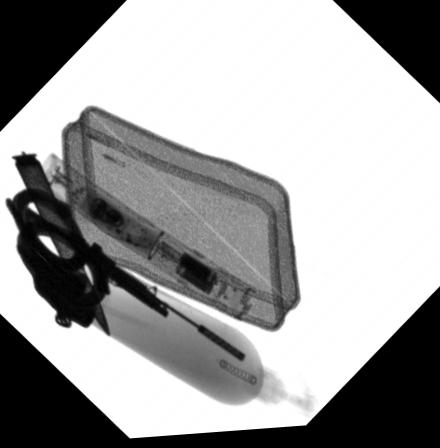Baton: (36, 151, 257, 328)
Bullet: (12, 154, 112, 344)
Gun: (4, 198, 244, 367)
HandCuffs: (7, 189, 108, 329)
